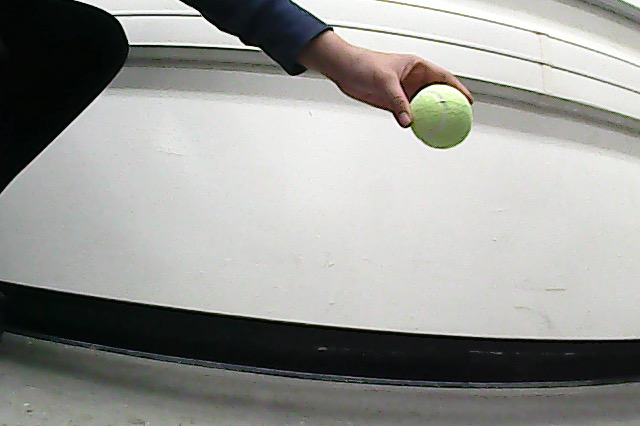ball: (406, 81, 476, 153)
